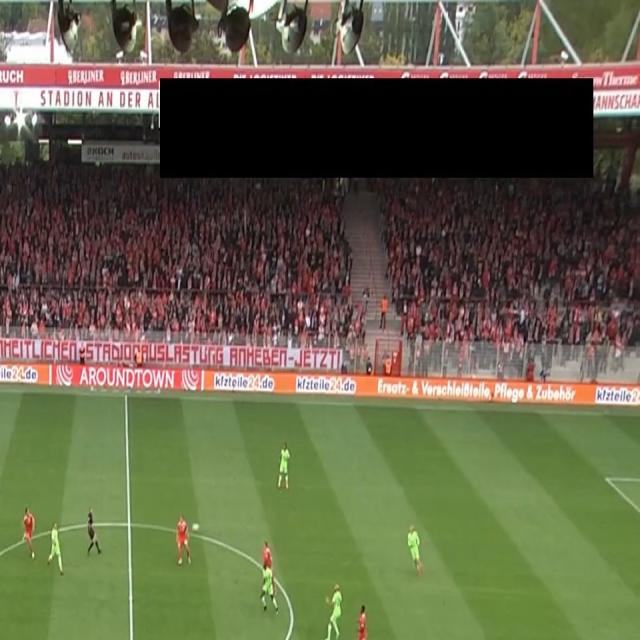ball: (192, 522, 200, 531)
